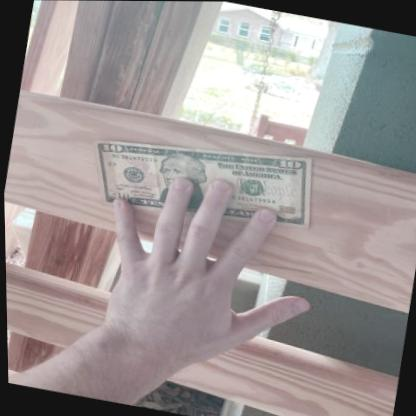ten-front: (92, 140, 310, 229)
